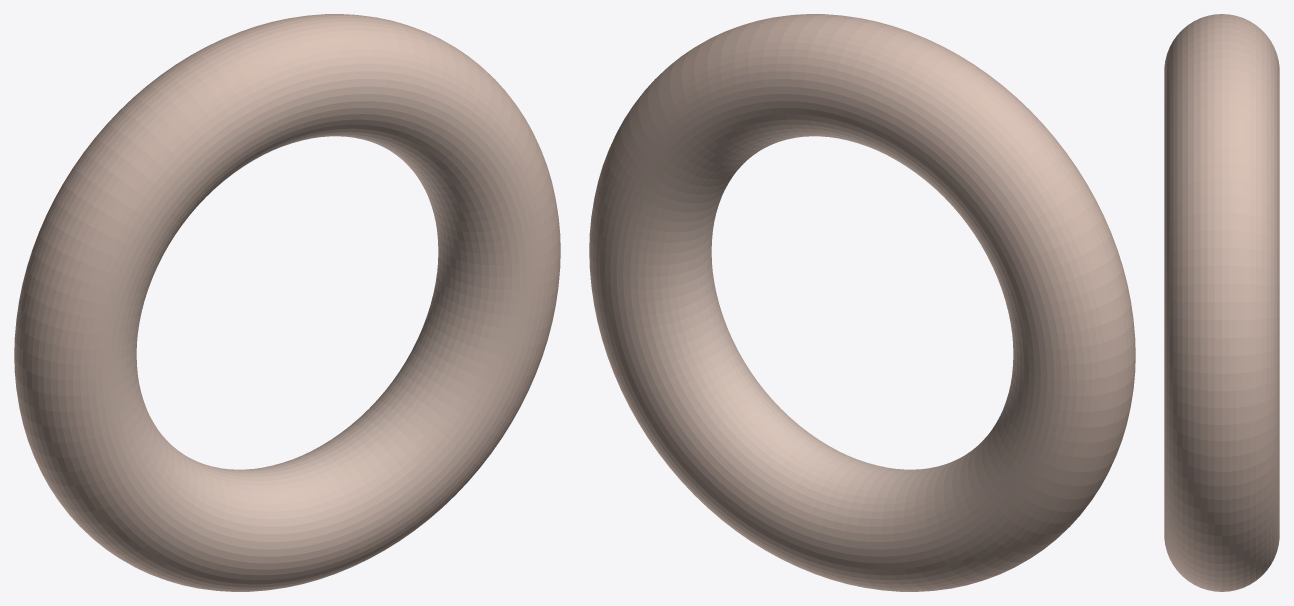
The picture shows the model from 3 angles, left to right: view 1: azimuth 30°, elevation 25°; view 2: azimuth 150°, elevation 25°; view 3: azimuth 270°, elevation 25°; orthographic projection. The views are drawn at different scales.
Visible parts, largest first — view 1: world; view 2: world; view 3: world.
Boxes of the visible parts, x1,y1,x2,y2 form: world: (14, 14, 560, 591); world: (589, 14, 1135, 591); world: (1164, 14, 1279, 591).
Size of the model in its own units: 16.67 by 16.67 by 3.33.
